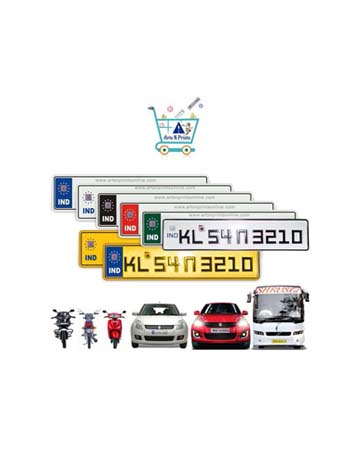number_plate: (162, 218, 309, 250)
